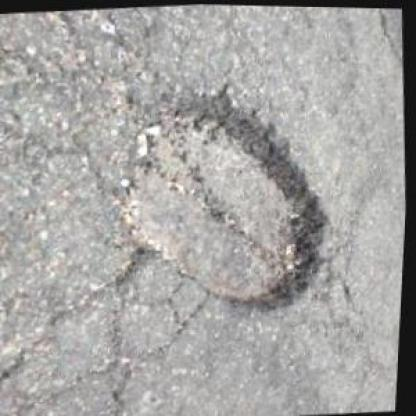pothole: (107, 78, 346, 323)
